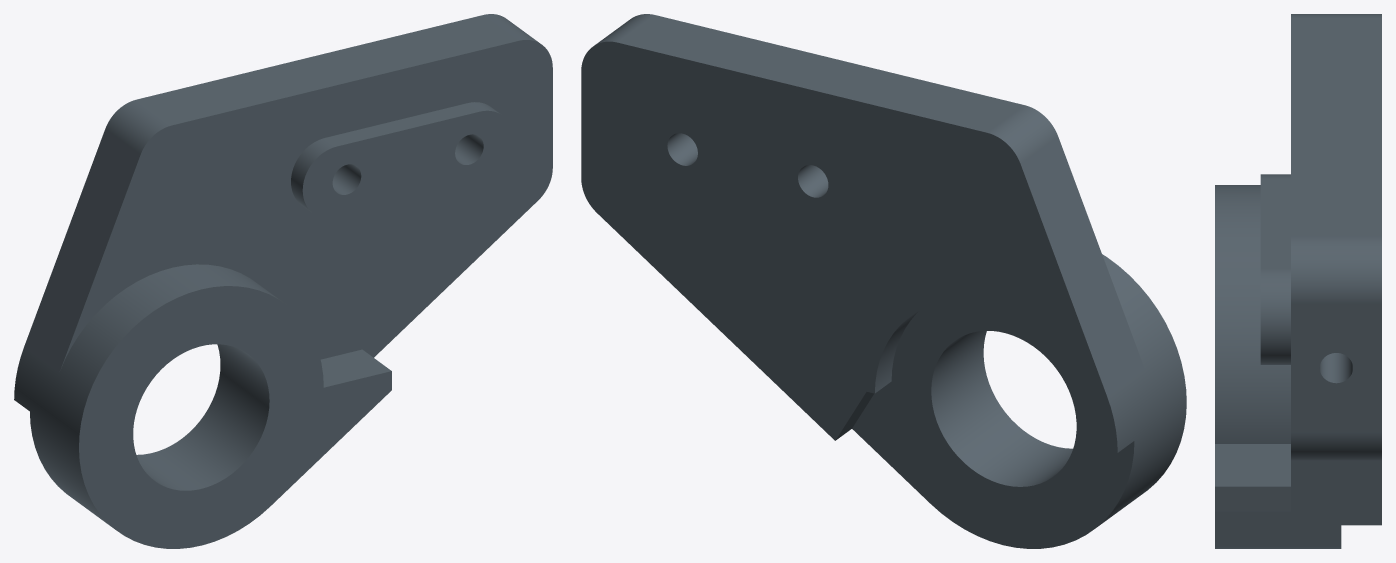
Rendered from dropout_right.glb.
3 renders of one model, left to right at view 1: azimuth 30°, elevation 25°; view 2: azimuth 150°, elevation 25°; view 3: azimuth 270°, elevation 25°, orthographic. The views are drawn at different scales.
Visible parts, largest first — view 1: dropout_right; view 2: dropout_right; view 3: dropout_right.
Part boxes in pixels (bbox=[...]): dropout_right: bbox=[14, 14, 552, 548]; dropout_right: bbox=[581, 14, 1186, 548]; dropout_right: bbox=[1215, 14, 1381, 548].
Bounding box in the file's own units: 74 × 56 × 16.5.
